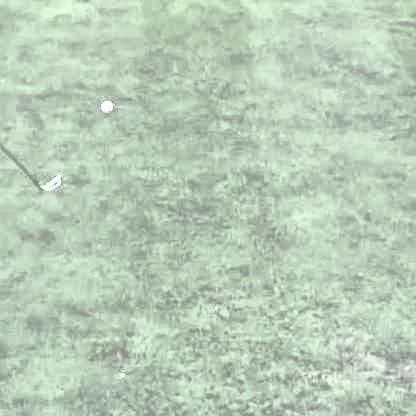golfball: (99, 99, 111, 110)
